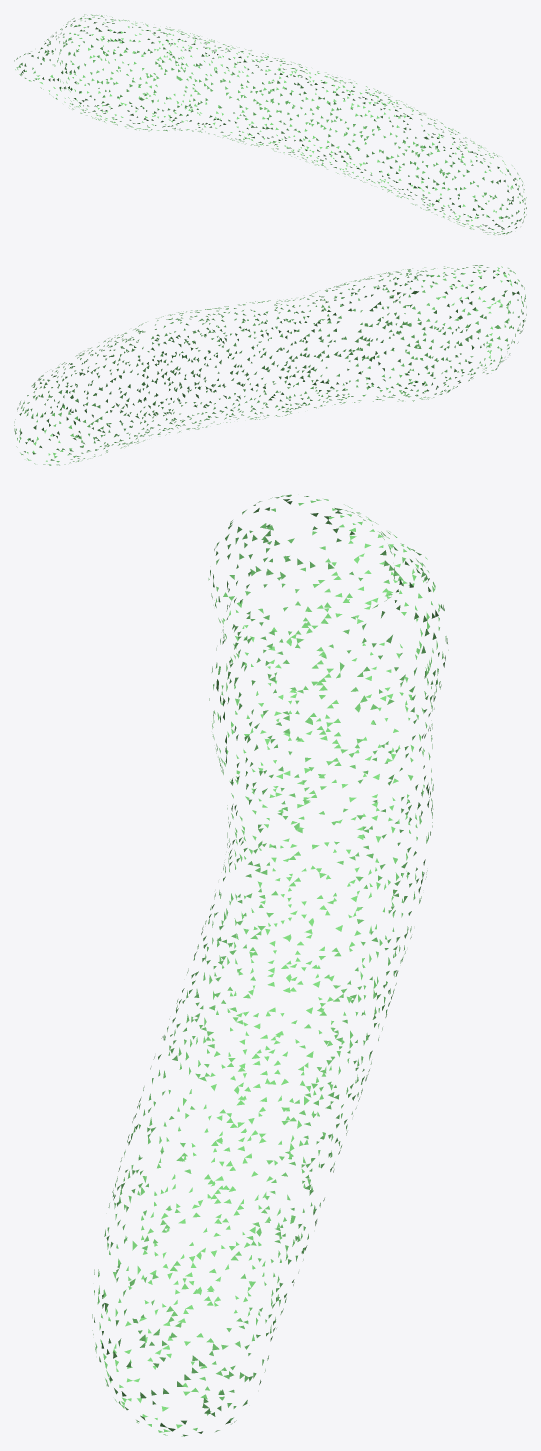
The model's file is morph_017.glb.
The picture shows the model from 3 angles, top to bottom: view 1: azimuth 30°, elevation 25°; view 2: azimuth 150°, elevation 25°; view 3: azimuth 270°, elevation 25°; orthographic projection. The views are drawn at different scales.
Size of the model in its own units: 102 by 60.92 by 35.53.
